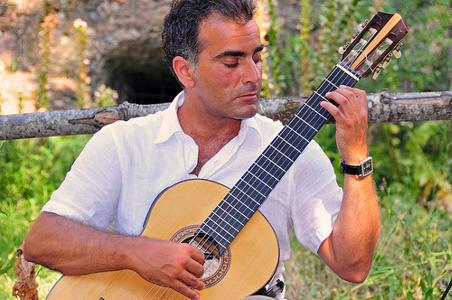person: (23, 2, 380, 300)
